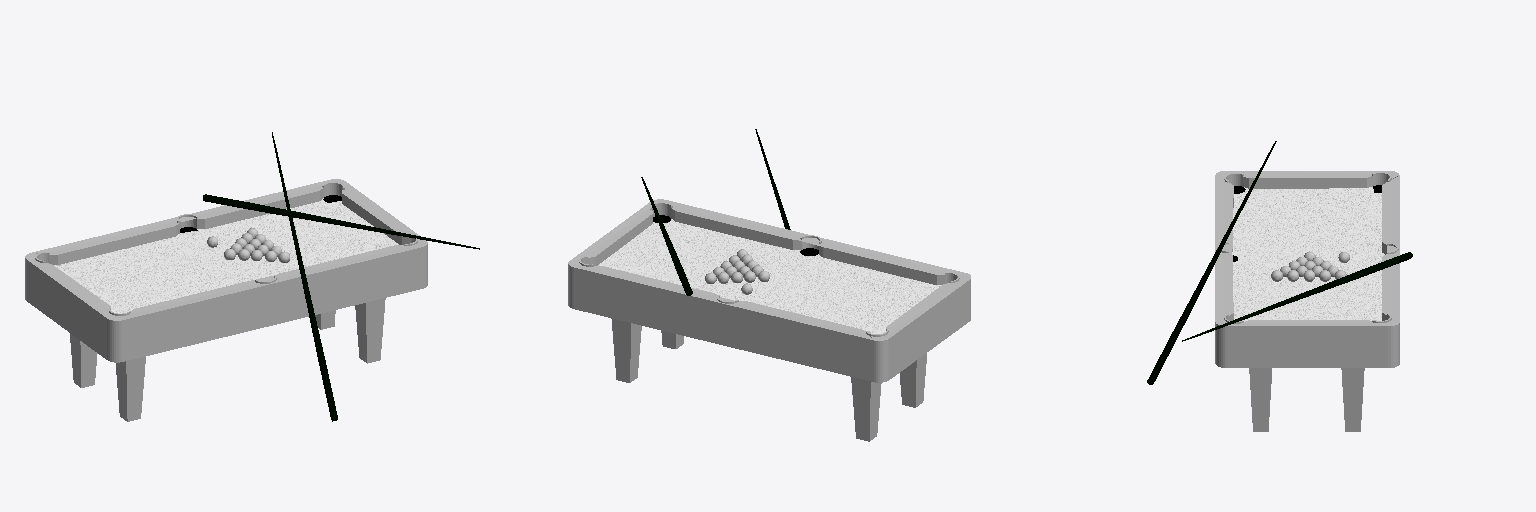
The picture shows the model from 3 angles: view 1: azimuth 30°, elevation 25°; view 2: azimuth 150°, elevation 25°; view 3: azimuth 270°, elevation 25°; orthographic projection.
Visible parts, largest first — view 1: Cube_Cube.003, Cylinder, Cylinder.001_Cylinder; view 2: Cube_Cube.003, Cylinder.001_Cylinder; view 3: Cube_Cube.003, Cylinder, Cylinder.001_Cylinder.
Boxes of the visible parts, <box> form: Cube_Cube.003: <box>25,179,427,421</box>; Cylinder: <box>272,132,337,421</box>; Cylinder.001_Cylinder: <box>203,194,479,249</box>; Cube_Cube.003: <box>568,199,970,441</box>; Cylinder.001_Cylinder: <box>641,177,692,295</box>; Cube_Cube.003: <box>1215,171,1399,431</box>; Cylinder: <box>1147,141,1276,384</box>; Cylinder.001_Cylinder: <box>1182,252,1412,341</box>.
Size of the model in its own units: 4.39 by 2.92 by 2.88.
5 materials, 1 textured.